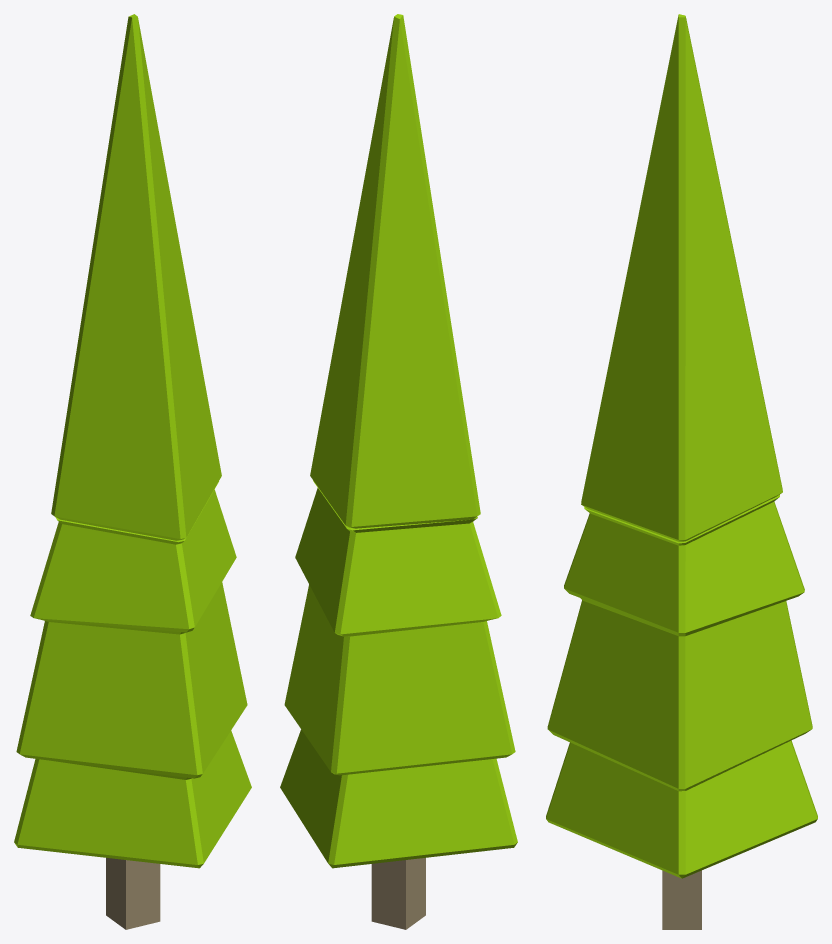
File: pine_t_03.fbx
3 views of the same model, side by side, from view 1: azimuth 30°, elevation 25°; view 2: azimuth 150°, elevation 25°; view 3: azimuth 270°, elevation 25° (orthographic).
Parts seen in each view (by area): view 1: pine_t_03; view 2: pine_t_03; view 3: pine_t_03.
Part boxes in pixels (bbox=[...]): pine_t_03: bbox=[14, 14, 251, 929]; pine_t_03: bbox=[280, 14, 517, 929]; pine_t_03: bbox=[546, 14, 817, 929].
Size of the model in its own units: 518 by 1905 by 518.
